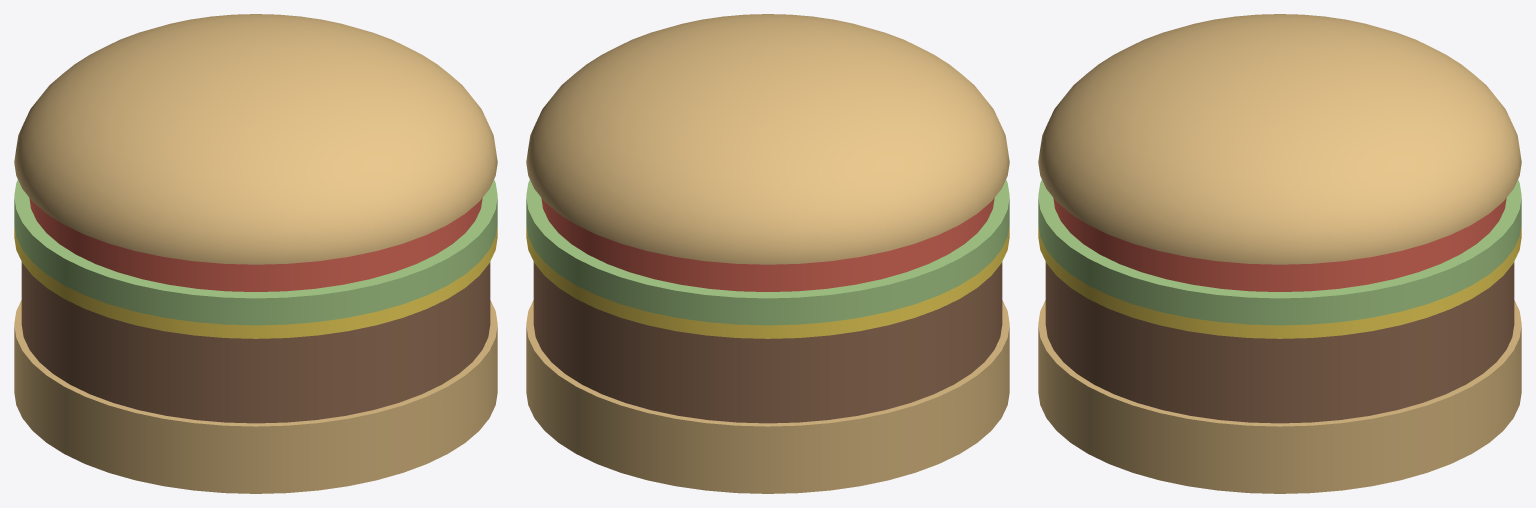
The model's file is burger-teste.glb.
The picture shows the model from 3 angles, left to right: view 1: azimuth 30°, elevation 25°; view 2: azimuth 150°, elevation 25°; view 3: azimuth 270°, elevation 25°; orthographic projection.
Visible parts, largest first — view 1: PaoTopo, Hamburguer, PaoBase, Alface, Tomate, Queijo; view 2: PaoTopo, Hamburguer, PaoBase, Alface, Tomate, Queijo; view 3: PaoTopo, Hamburguer, PaoBase, Alface, Tomate, Queijo.
Boxes of the visible parts, box(x1,y1,x2,y2) form: PaoTopo: box(14, 14, 497, 264); Hamburguer: box(21, 262, 490, 423); PaoBase: box(14, 300, 497, 493); Alface: box(14, 180, 497, 325); Tomate: box(29, 198, 482, 291); Queijo: box(14, 225, 497, 338); PaoTopo: box(526, 14, 1009, 264); Hamburguer: box(533, 262, 1002, 423); PaoBase: box(526, 300, 1009, 493); Alface: box(526, 180, 1009, 325); Tomate: box(541, 198, 994, 291); Queijo: box(526, 225, 1009, 338); PaoTopo: box(1038, 14, 1521, 264); Hamburguer: box(1045, 262, 1514, 423); PaoBase: box(1038, 300, 1521, 493); Alface: box(1038, 180, 1521, 325); Tomate: box(1053, 198, 1506, 291); Queijo: box(1038, 225, 1521, 338).
Bounding box in the file's own units: 0.13 × 0.1 × 0.13.
